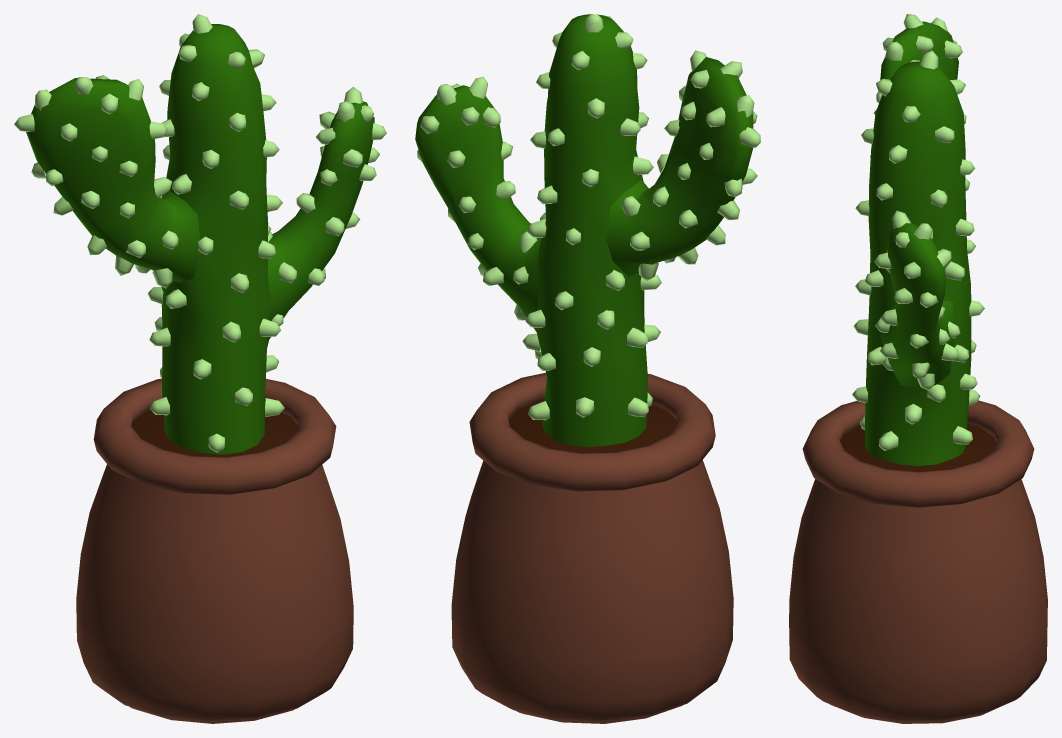
Rendered from Cactus.glb.
The picture shows the model from 3 angles, left to right: view 1: azimuth 30°, elevation 25°; view 2: azimuth 150°, elevation 25°; view 3: azimuth 270°, elevation 25°; orthographic projection. The views are drawn at different scales.
Visible parts, largest first — view 1: Circle.078; view 2: Circle.078; view 3: Circle.078.
Boxes of the visible parts, left/top/right/bottom form: Circle.078: left=14, top=14, right=386, bottom=723; Circle.078: left=415, top=14, right=760, bottom=723; Circle.078: left=789, top=14, right=1047, bottom=723.
Size of the model in its own units: 1.11 by 2 by 0.7476.
